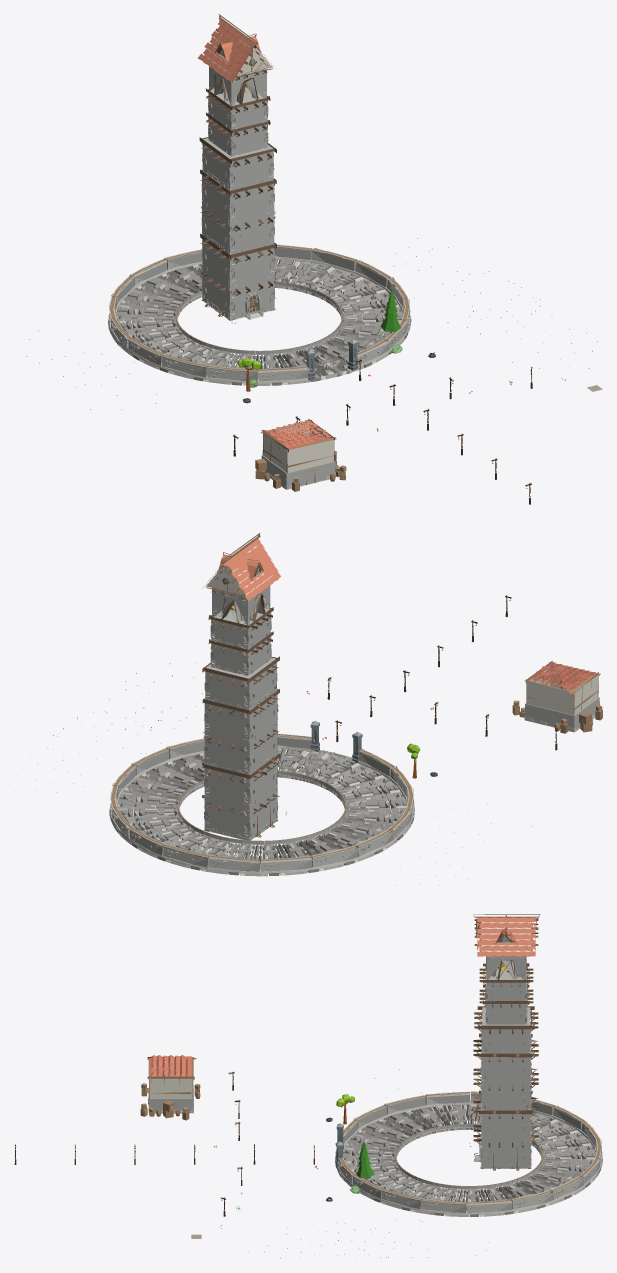
File: chunk_1_2_lod1.glb
3 renders of one model, top to bottom at view 1: azimuth 30°, elevation 25°; view 2: azimuth 150°, elevation 25°; view 3: azimuth 270°, elevation 25°, orthographic. The views are drawn at different scales.
Visible parts, largest first — view 1: Batched_chunk_1_2_lod1; view 2: Batched_chunk_1_2_lod1; view 3: Batched_chunk_1_2_lod1.
Part boxes in pixels (<box>): Batched_chunk_1_2_lod1: <box>26,14,602,504</box>; Batched_chunk_1_2_lod1: <box>14,533,602,885</box>; Batched_chunk_1_2_lod1: <box>14,914,602,1258</box>.
Bounding box in the file's own units: 88.66 × 51.84 × 112.
30 materials, 3 textured.
